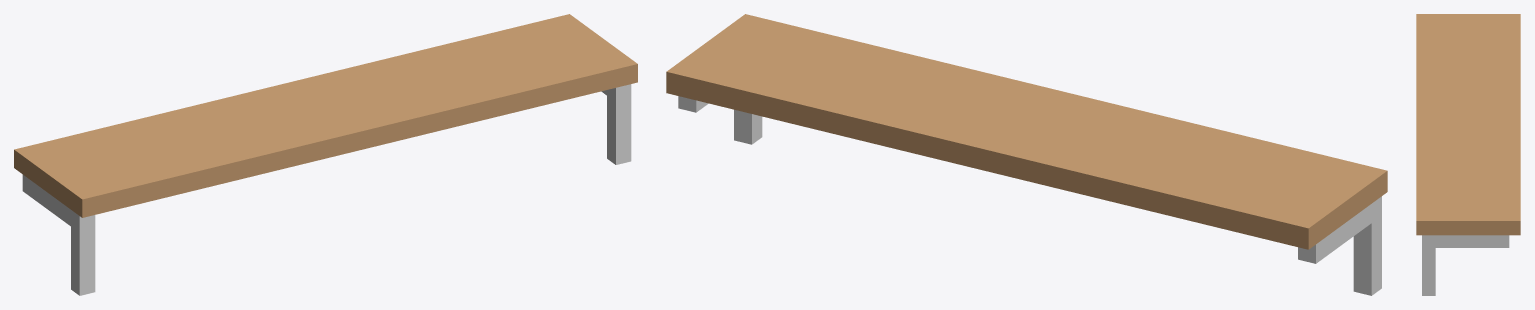
Rendered from rak.fbx.
3 renders of one model, left to right at view 1: azimuth 30°, elevation 25°; view 2: azimuth 150°, elevation 25°; view 3: azimuth 270°, elevation 25°, orthographic. The views are drawn at different scales.
Visible parts, largest first — view 1: Cube.003, Cube.009; view 2: Cube.003, Cube.009; view 3: Cube.003, Cube.009.
Part boxes in pixels (x1=…): Cube.003: x1=14, y1=14, x2=637, y2=217; Cube.009: x1=22, y1=84, x2=631, y2=295; Cube.003: x1=666, y1=14, x2=1387, y2=249; Cube.009: x1=678, y1=96, x2=1381, y2=295; Cube.003: x1=1416, y1=14, x2=1520, y2=235; Cube.009: x1=1422, y1=235, x2=1509, y2=295.
Bounding box in the file's own units: 1372 × 235 × 292.
